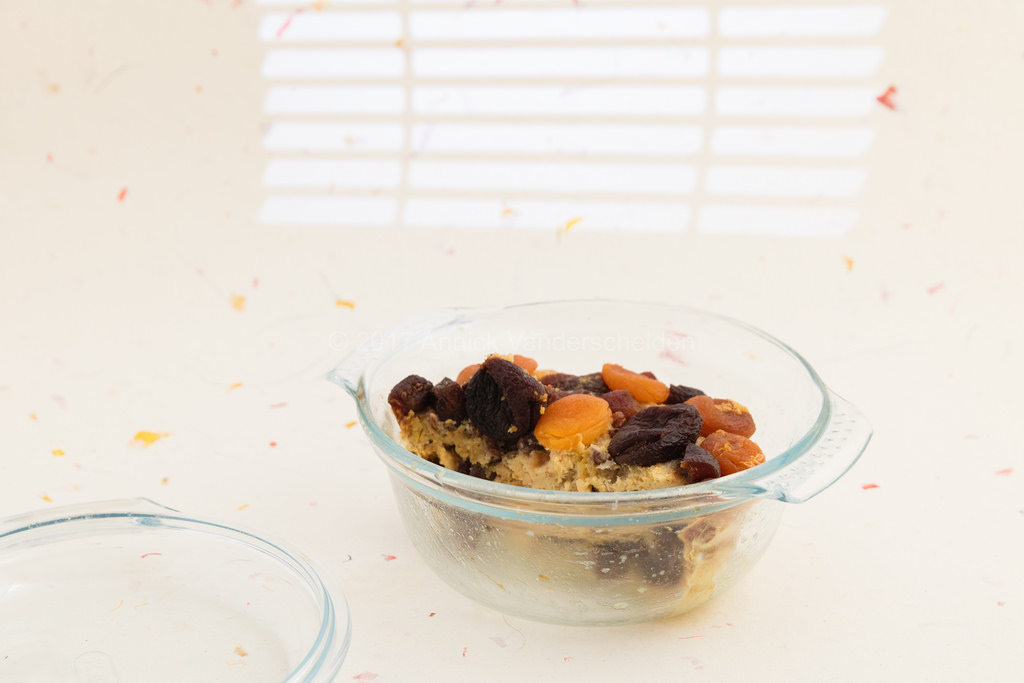slice of bread: (411, 387, 711, 492)
